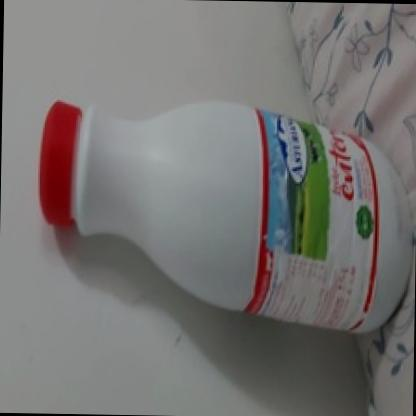plastic_bottles: (38, 94, 416, 324)
